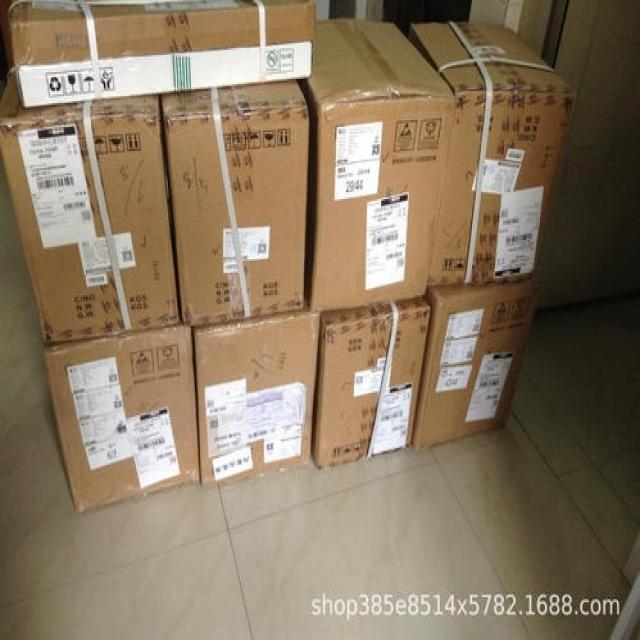box: (0, 54, 182, 345), (300, 17, 456, 307), (410, 22, 576, 288), (160, 80, 310, 324), (6, 3, 314, 108), (42, 324, 198, 512), (193, 308, 318, 486), (412, 276, 538, 449), (311, 299, 433, 468)
